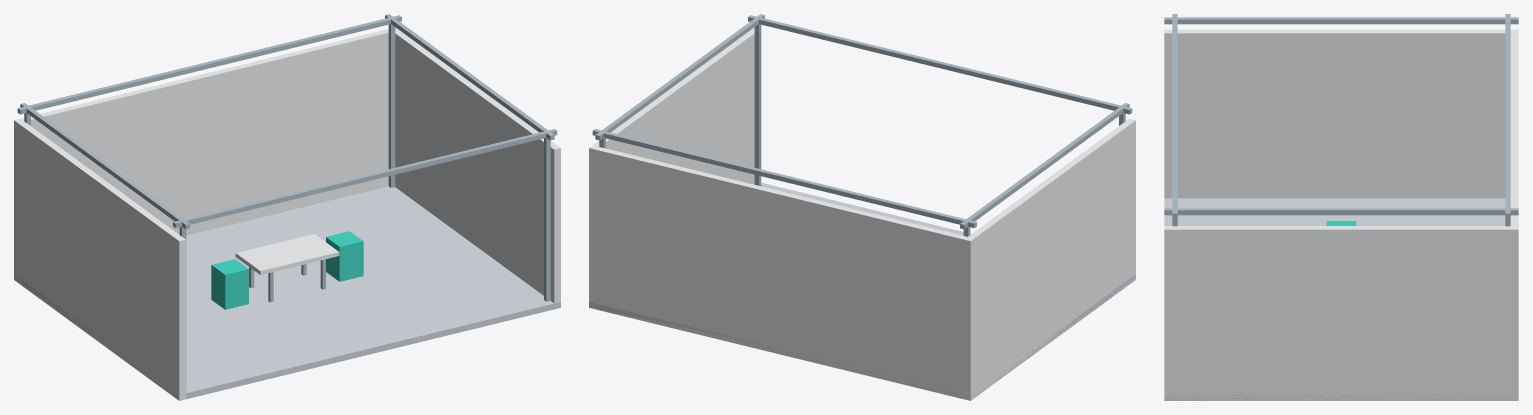
The picture shows the model from 3 angles, left to right: view 1: azimuth 30°, elevation 25°; view 2: azimuth 150°, elevation 25°; view 3: azimuth 270°, elevation 25°; orthographic projection. The views are drawn at different scales.
Parts seen in each view (by area): view 1: Exhibition Booth Concept; view 2: Exhibition Booth Concept; view 3: Exhibition Booth Concept.
Part boxes in pixels (x1,y1,x2,y2): Exhibition Booth Concept: (14, 14, 560, 400); Exhibition Booth Concept: (589, 14, 1135, 400); Exhibition Booth Concept: (1164, 14, 1518, 400).
Bounding box in the file's own units: 8 × 3.49 × 6.
